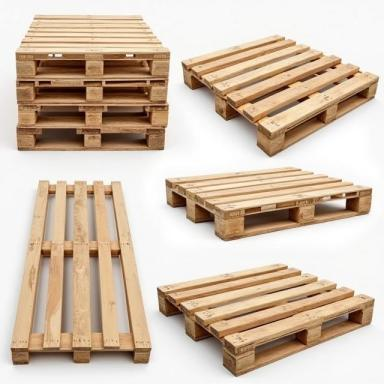pallet: (10, 180, 152, 365), (156, 263, 375, 377), (181, 34, 380, 158), (165, 166, 372, 242), (15, 14, 171, 79), (16, 123, 165, 151), (16, 79, 168, 104), (18, 104, 169, 129), (244, 209, 289, 227), (36, 106, 85, 122), (36, 129, 84, 140), (36, 87, 86, 97), (102, 107, 149, 117)
